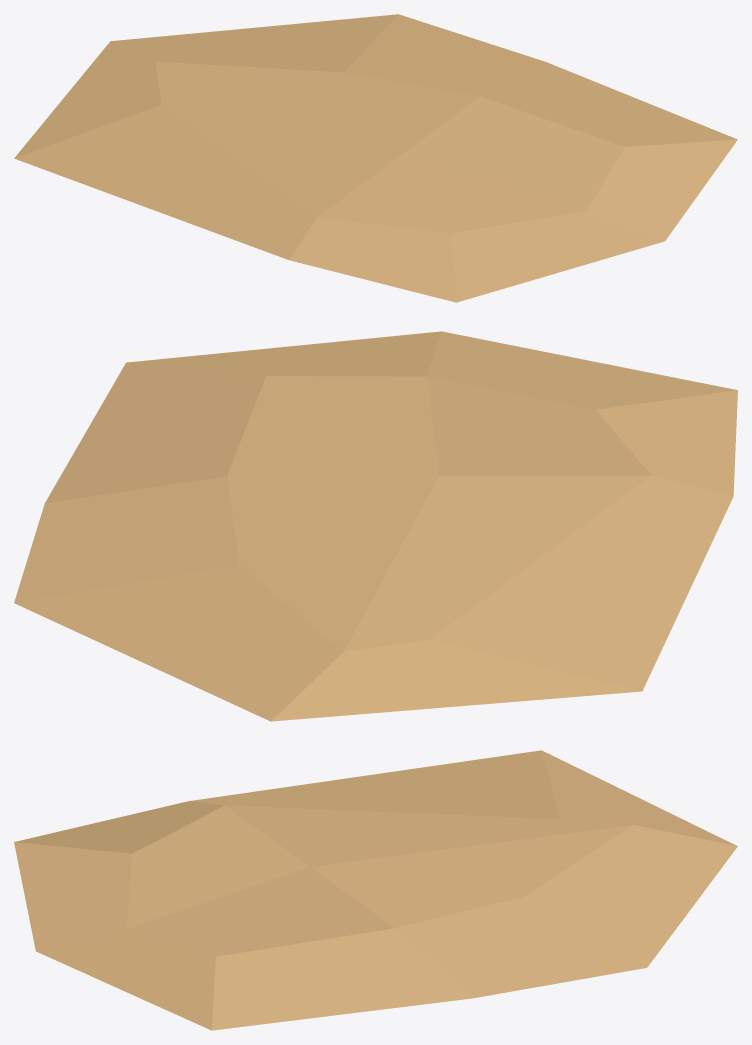
Rendered from Stone_04_Var_02.fbx.
The picture shows the model from 3 angles, top to bottom: view 1: azimuth 30°, elevation 25°; view 2: azimuth 150°, elevation 25°; view 3: azimuth 270°, elevation 25°; orthographic projection. The views are drawn at different scales.
Visible parts, largest first — view 1: Stone_04_Var_02; view 2: Stone_04_Var_02; view 3: Stone_04_Var_02.
Part boxes in pixels (x1,y1,x2,y2): Stone_04_Var_02: (14,14,737,302); Stone_04_Var_02: (14,331,737,721); Stone_04_Var_02: (14,750,737,1030).
Bounding box in the file's own units: 7.01 × 0.5277 × 6.43.
